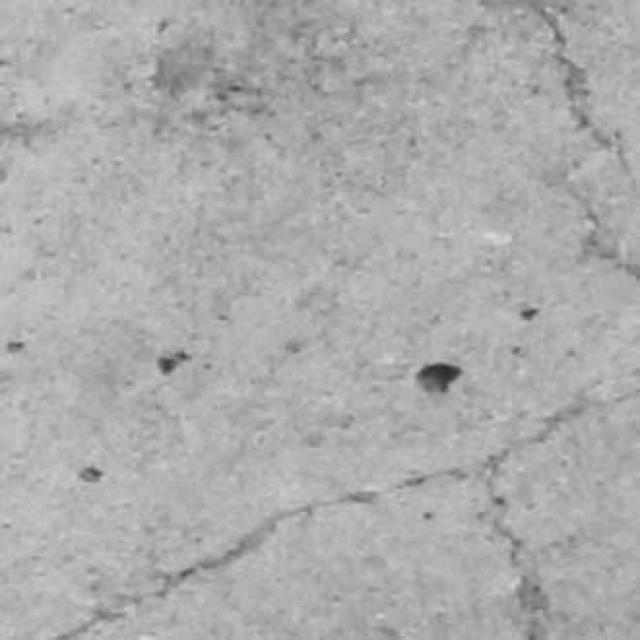crack: (51, 388, 639, 639), (53, 468, 471, 639), (478, 388, 638, 639), (522, 0, 638, 193), (524, 0, 634, 180), (483, 450, 550, 639)
